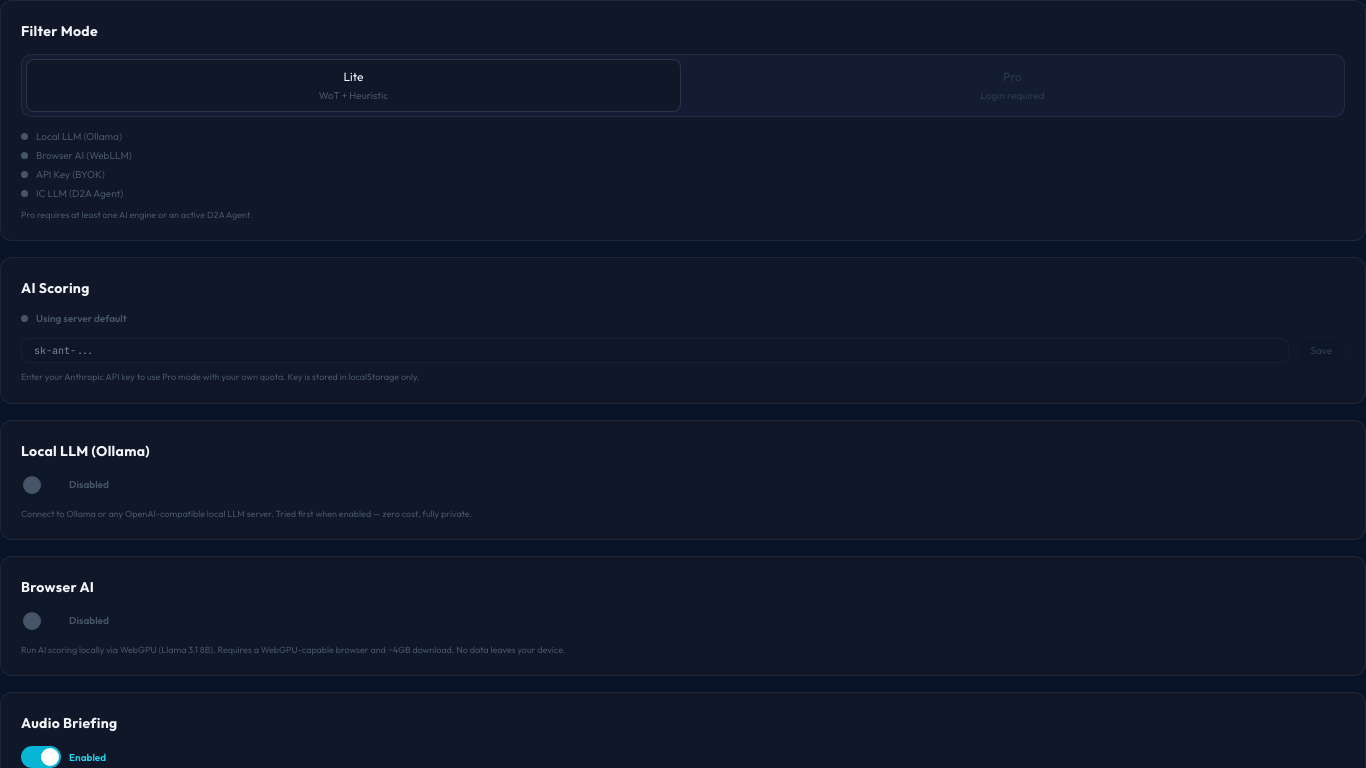
Test case: FeedSection — API key save success path › shows masked key and API Key Set after saving valid key
Type "sk-ant-api03-validkey123456" into the password field with placeholder "sk-ant-...".
click(655, 351); type("sk-ant-api03-validkey123456")  # box [21,338,1289,363]
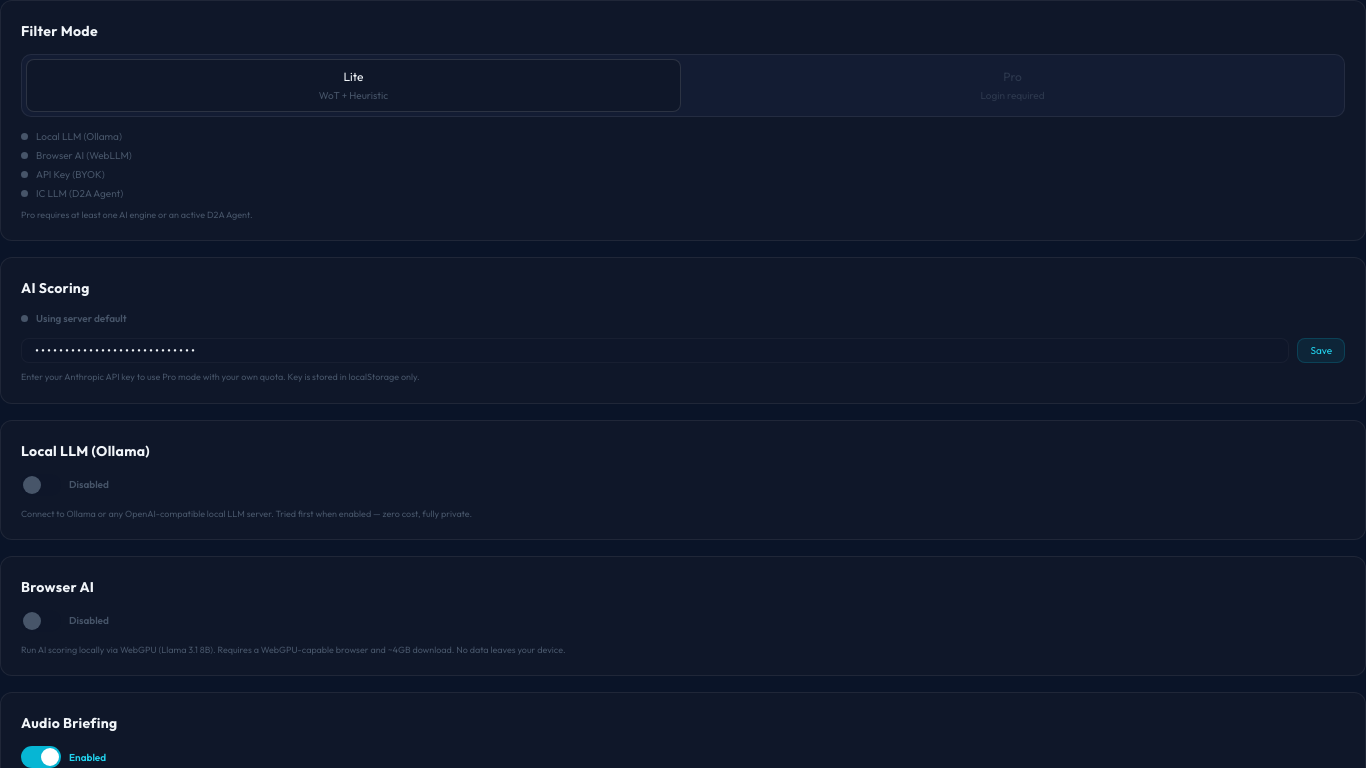
Click the button "Save".
click(1321, 351)  # box [1297,338,1345,363]
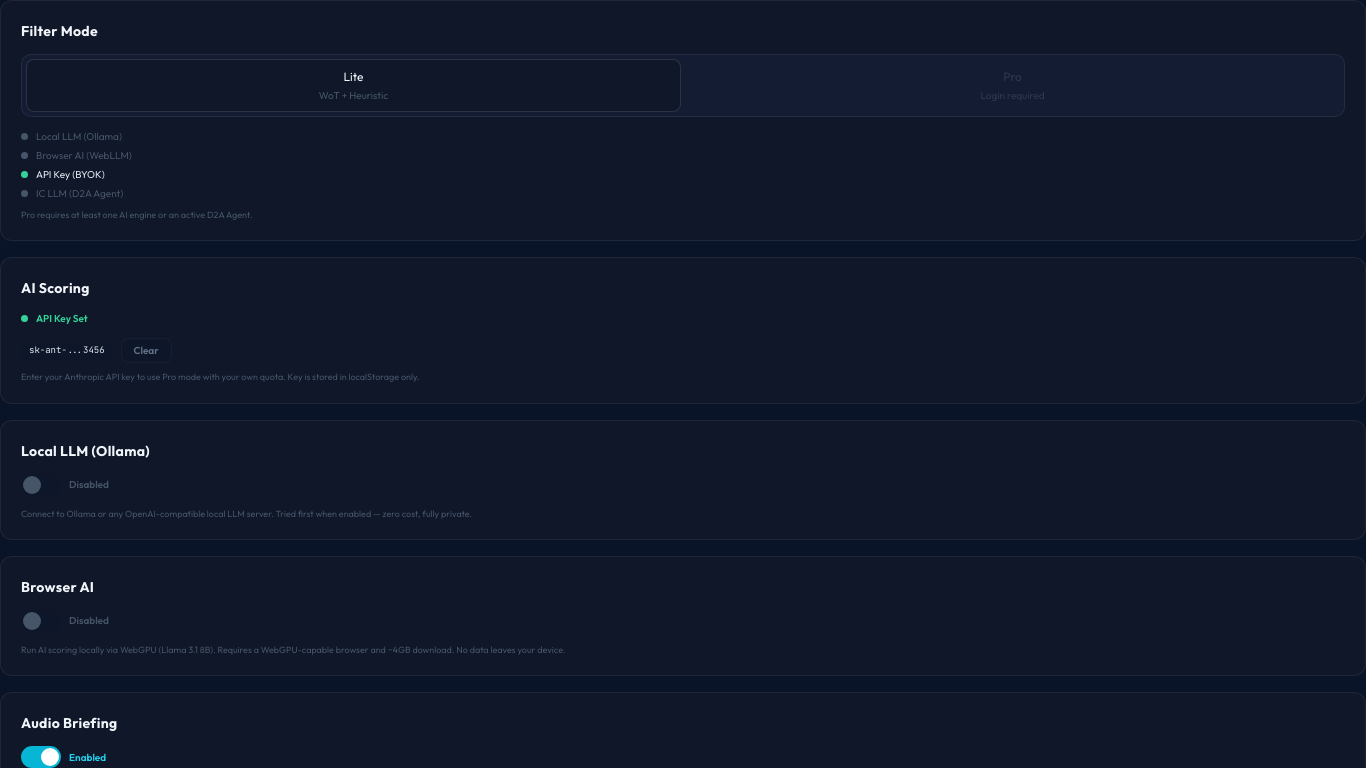
Now the text "API Key Set" is shown, box [36,311,88,326]
Now the text "sk-ant-...3456" is shown, box [21,342,113,360]
